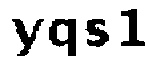1: (114, 2, 149, 52)
q: (49, 16, 81, 57)
s: (84, 16, 111, 49)
y: (9, 15, 48, 58)
